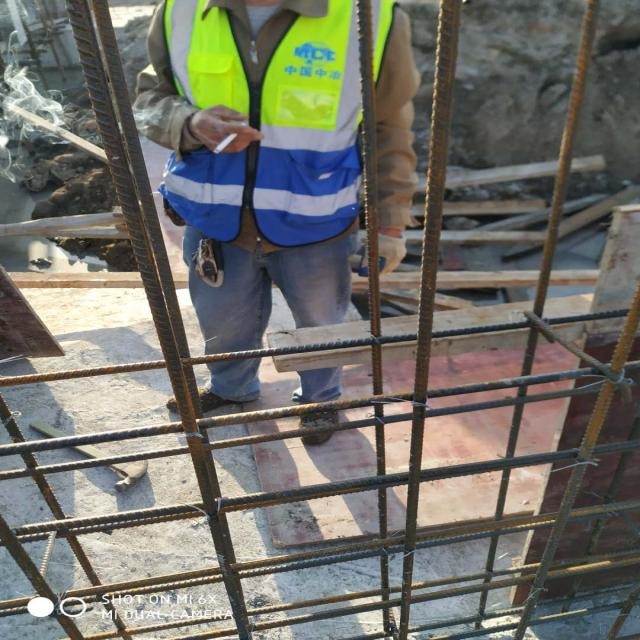smoke: (208, 125, 248, 161)
